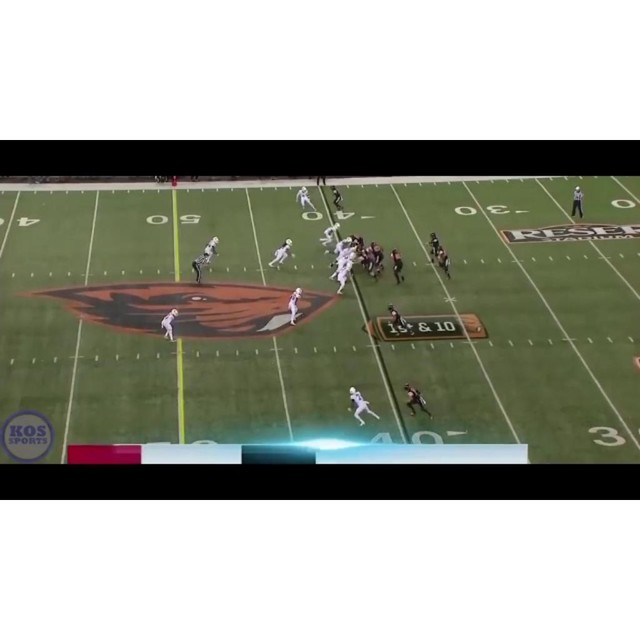american-football-player: (348, 386, 380, 426), (403, 382, 434, 420), (387, 302, 413, 336), (334, 258, 356, 296), (269, 238, 294, 270), (320, 223, 342, 253), (369, 241, 385, 279), (161, 308, 179, 341), (287, 288, 303, 325), (436, 245, 452, 281), (390, 248, 405, 285), (298, 185, 315, 212), (426, 231, 439, 264), (330, 185, 344, 215)
referee: (192, 250, 214, 285), (571, 186, 585, 219)
